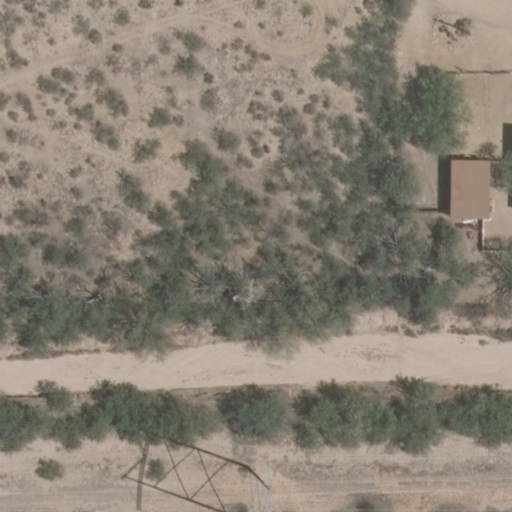DT: (238, 445, 281, 512)
